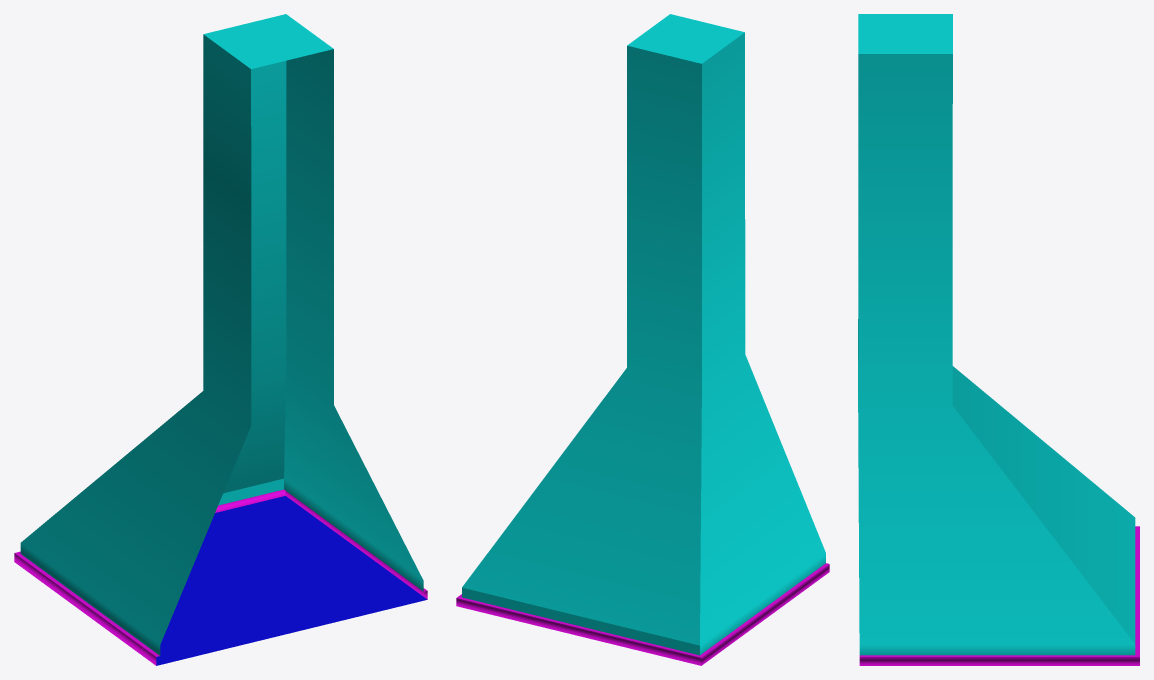
File: SM_Fan.fbx
The picture shows the model from 3 angles, left to right: view 1: azimuth 30°, elevation 25°; view 2: azimuth 150°, elevation 25°; view 3: azimuth 270°, elevation 25°; orthographic projection. The views are drawn at different scales.
Parts seen in each view (by area): view 1: polySurface61; view 2: polySurface61; view 3: polySurface61.
Boxes of the visible parts, bbox=[...] form: polySurface61: bbox=[14, 14, 427, 665]; polySurface61: bbox=[456, 14, 829, 665]; polySurface61: bbox=[858, 14, 1139, 665].
Size of the model in its own units: 283 by 571 by 257.
